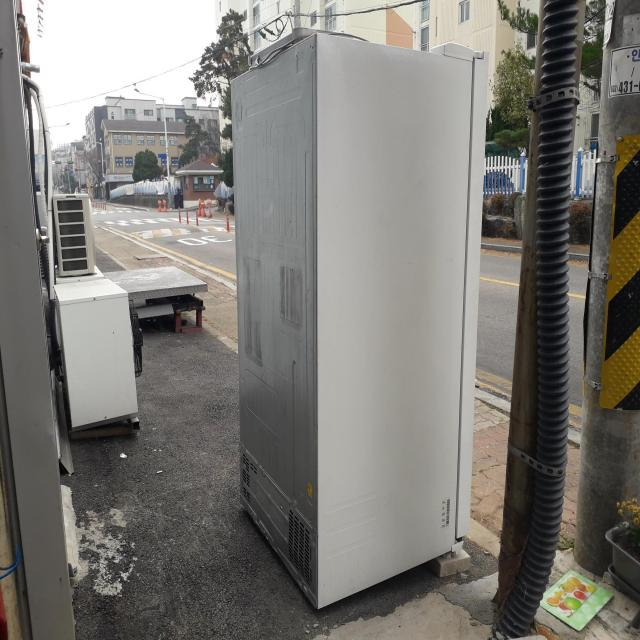refrigerator: (222, 22, 492, 622)
